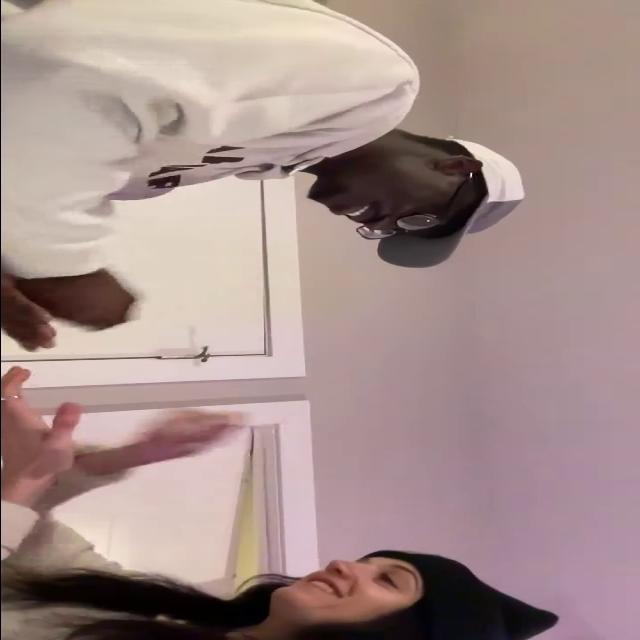Rock: (11, 274, 139, 332), (128, 412, 243, 458)
